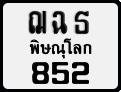letters: (28, 10, 47, 35), (71, 61, 90, 85), (31, 61, 49, 85), (51, 61, 69, 84), (51, 10, 67, 35), (74, 10, 90, 35)
province: (29, 37, 93, 59)
